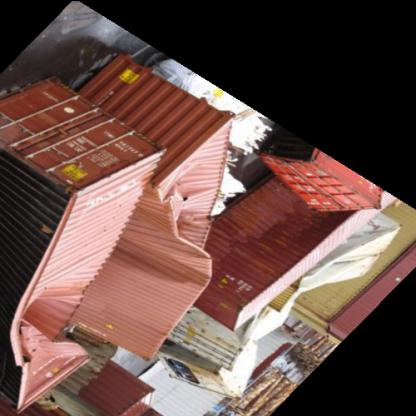Damage: (126, 94, 243, 370), (8, 266, 99, 410)
